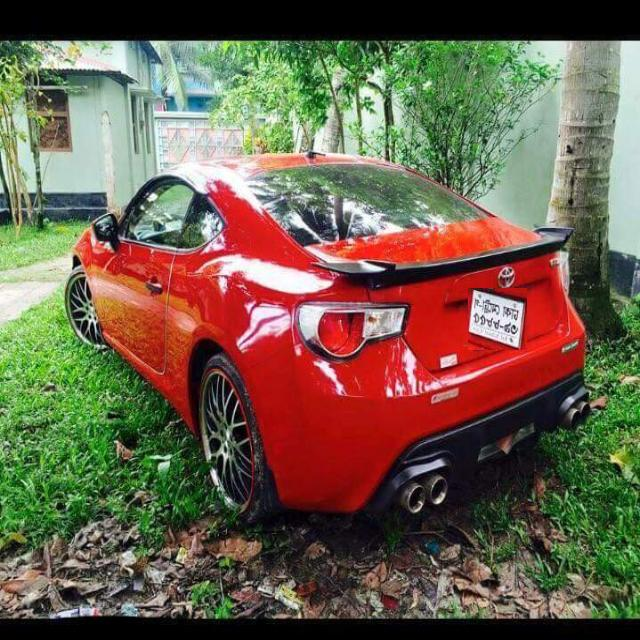numberplate: (468, 288, 527, 350)
